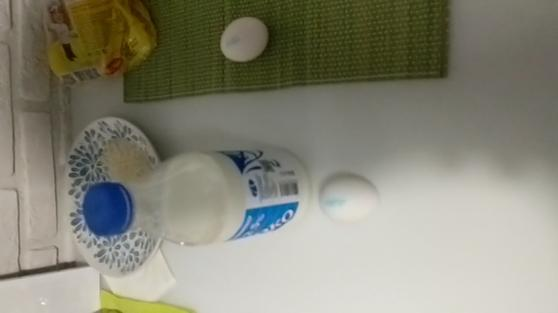egg: (313, 169, 385, 224), (212, 15, 274, 64)
milk: (67, 139, 322, 252)
